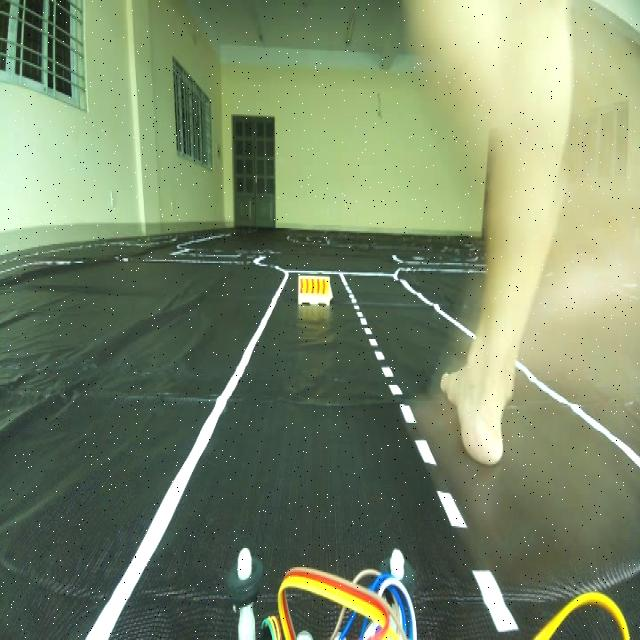roadblock: (293, 267, 336, 316)
